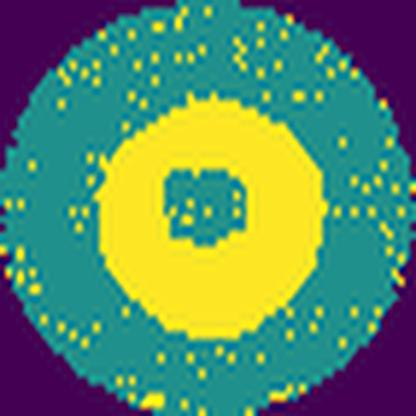Donut: (82, 88, 341, 347)
